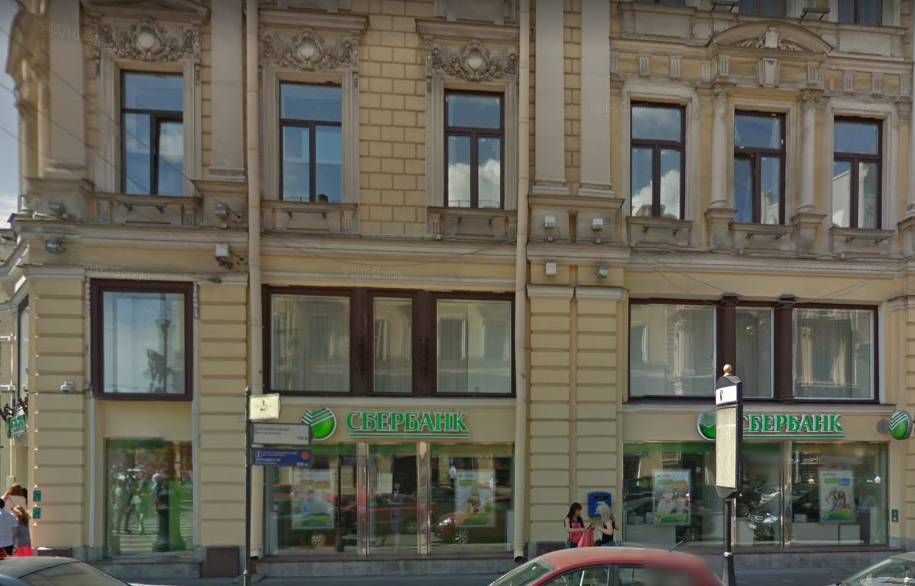cantilever: (871, 405, 914, 442)
signboard: (295, 405, 476, 441), (697, 406, 846, 442)
window: (259, 441, 514, 561), (623, 441, 891, 545), (266, 293, 515, 395), (627, 303, 879, 400), (96, 285, 194, 397), (104, 436, 195, 553), (278, 78, 347, 203), (125, 69, 183, 197), (629, 100, 686, 220), (443, 94, 502, 209), (732, 112, 788, 226), (835, 113, 885, 230)
